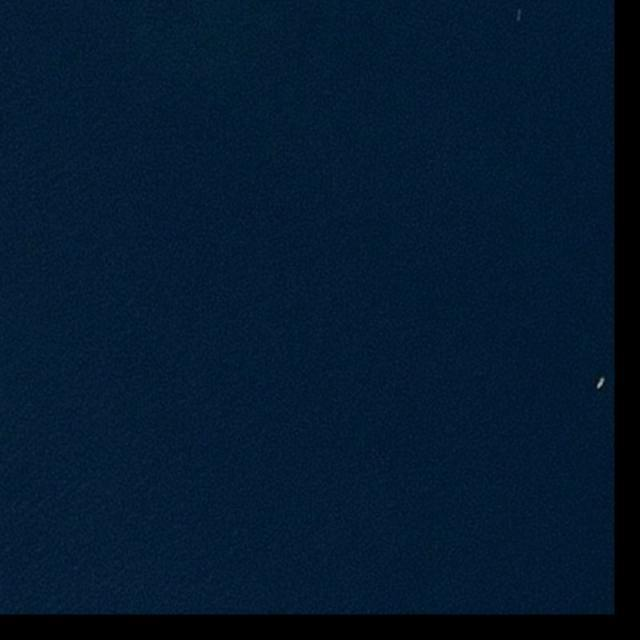ship: (596, 376, 606, 391), (517, 9, 522, 22)
